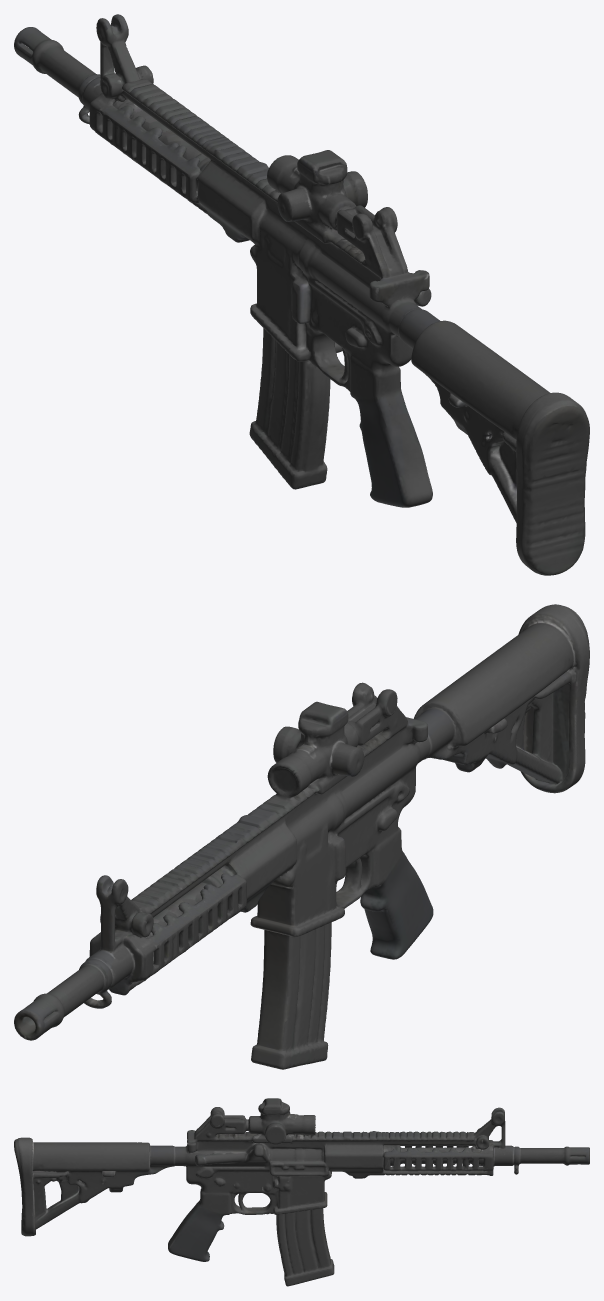
The model's file is rifle.glb.
3 views of the same model, one above another, from view 1: azimuth 30°, elevation 25°; view 2: azimuth 150°, elevation 25°; view 3: azimuth 270°, elevation 25° (orthographic). The views are drawn at different scales.
Parts seen in each view (by area): view 1: tripo_node_72ae9323-0ff1-42a6-938b-cad2e08d34b8; view 2: tripo_node_72ae9323-0ff1-42a6-938b-cad2e08d34b8; view 3: tripo_node_72ae9323-0ff1-42a6-938b-cad2e08d34b8.
Boxes of the visible parts, <box> form: tripo_node_72ae9323-0ff1-42a6-938b-cad2e08d34b8: <box>14,14,589,575</box>; tripo_node_72ae9323-0ff1-42a6-938b-cad2e08d34b8: <box>14,604,589,1069</box>; tripo_node_72ae9323-0ff1-42a6-938b-cad2e08d34b8: <box>14,1098,589,1286</box>.
Bounding box in the file's own units: 0.0825 × 0.3471 × 1.
1 material, 1 textured.
